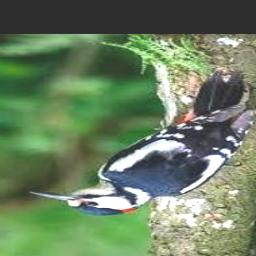Woodpecker: (30, 71, 256, 216)
